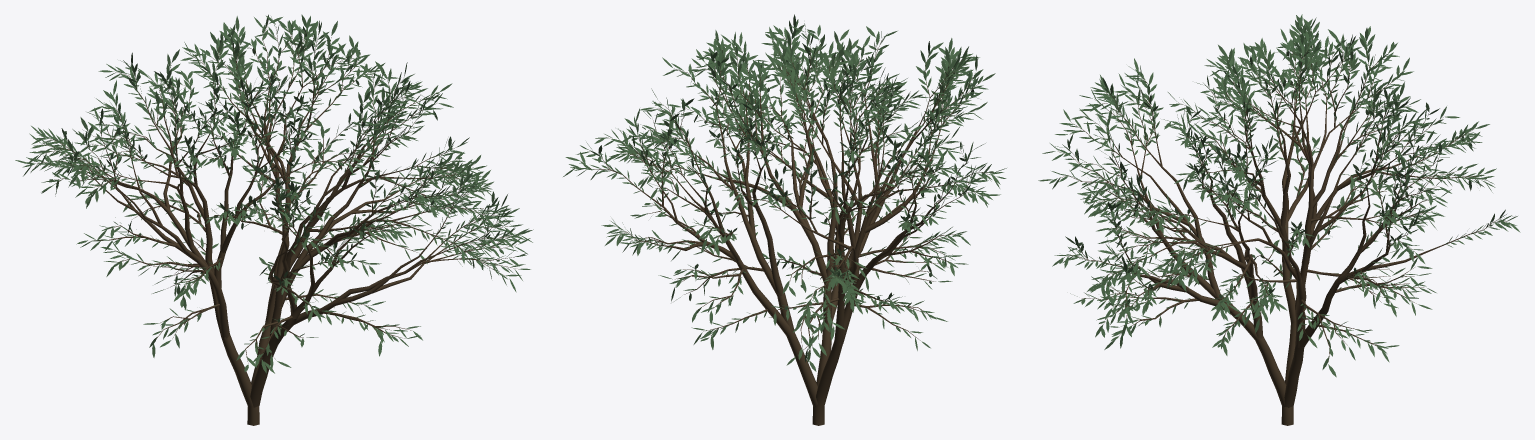
File: Tree_11.fbx
3 views of the same model, side by side, from view 1: azimuth 30°, elevation 25°; view 2: azimuth 150°, elevation 25°; view 3: azimuth 270°, elevation 25° (orthographic).
Visible parts, largest first — view 1: leaves_11, Tree_11; view 2: leaves_11, Tree_11; view 3: leaves_11, Tree_11.
Boxes of the visible parts, left/top/right/bottom form: leaves_11: left=15, top=14, right=533, bottom=373; Tree_11: left=37, top=24, right=518, bottom=425; leaves_11: left=563, top=14, right=1006, bottom=371; Tree_11: left=581, top=34, right=992, bottom=425; leaves_11: left=1038, top=14, right=1520, bottom=377; Tree_11: left=1058, top=30, right=1506, bottom=425.
Size of the model in its own units: 1030 by 900 by 1078.
